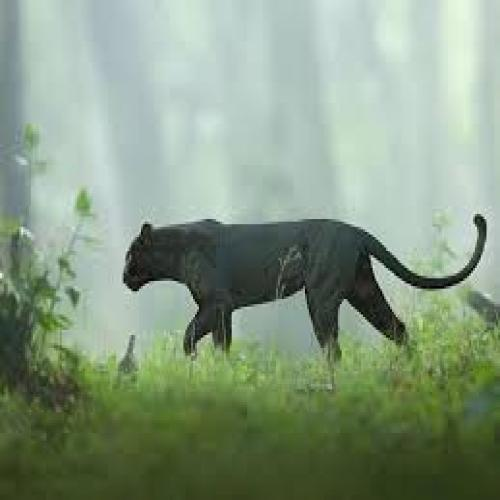panther-endangered: (124, 219, 484, 348)
